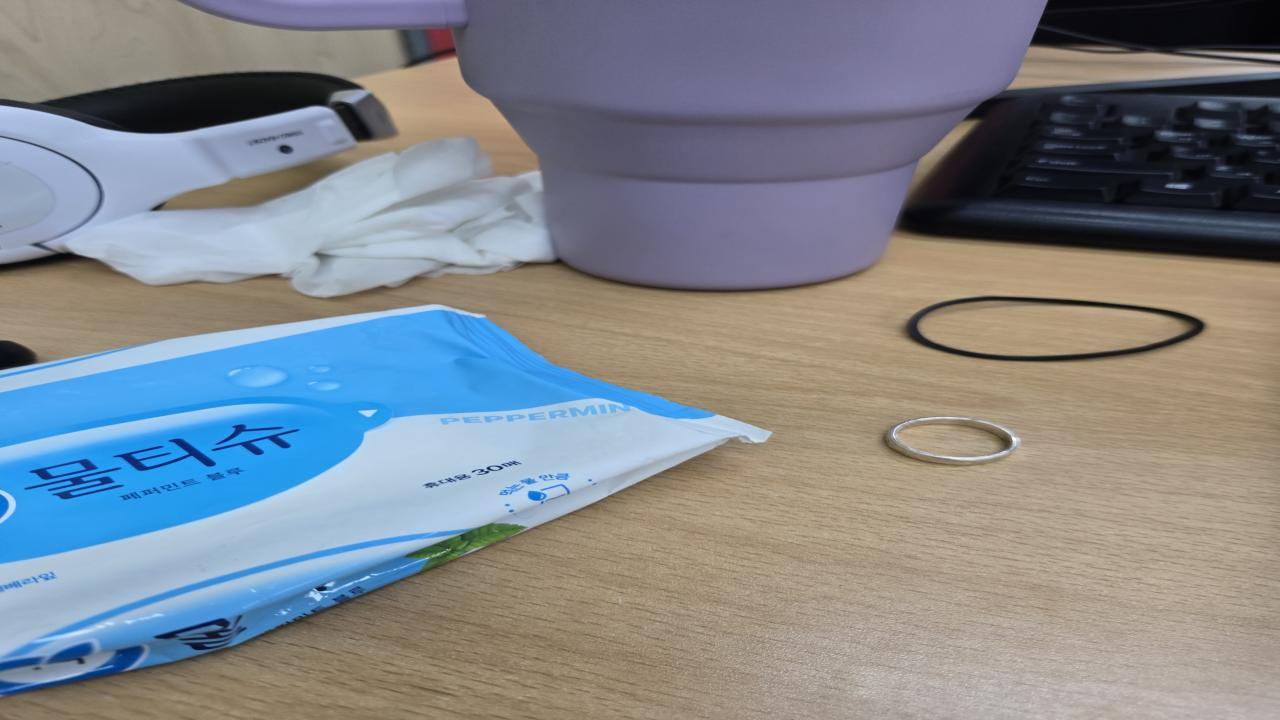ring: (880, 415, 1021, 468)
